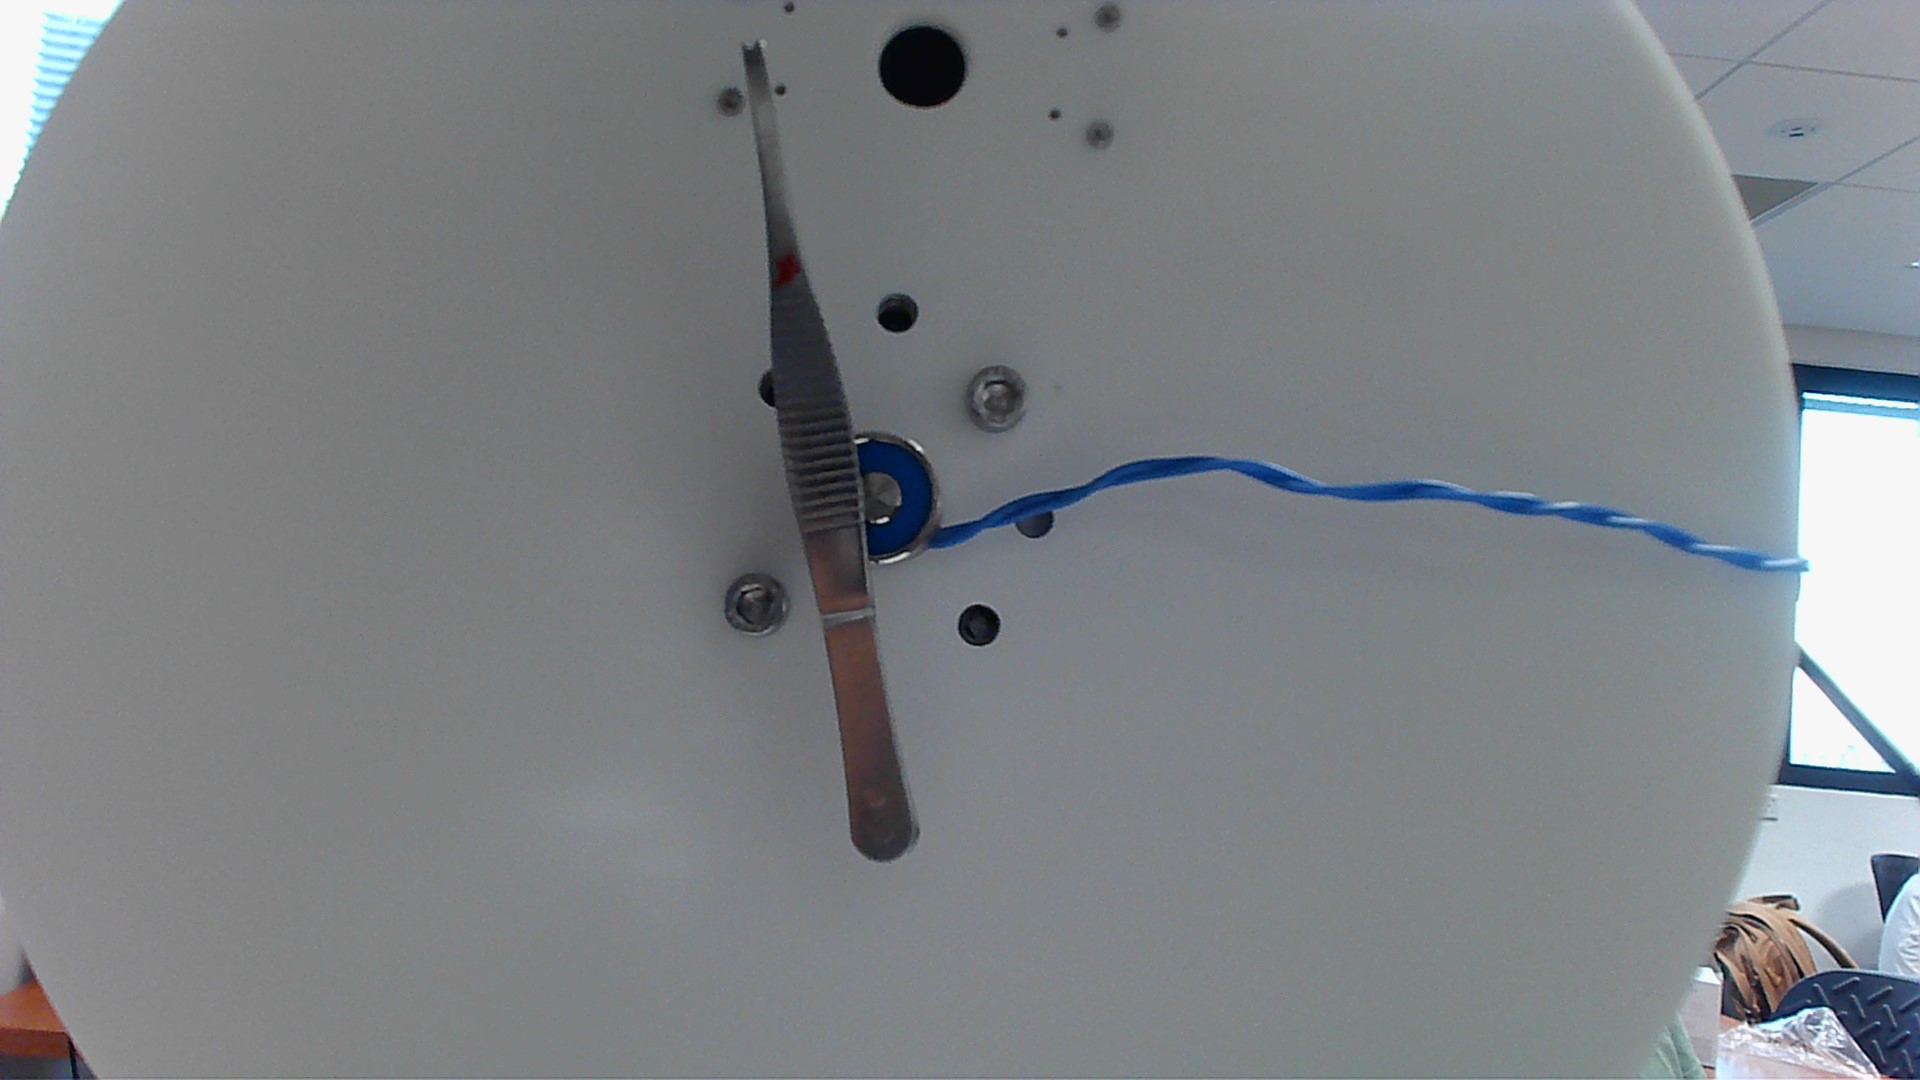Stain: (777, 249, 803, 289)
